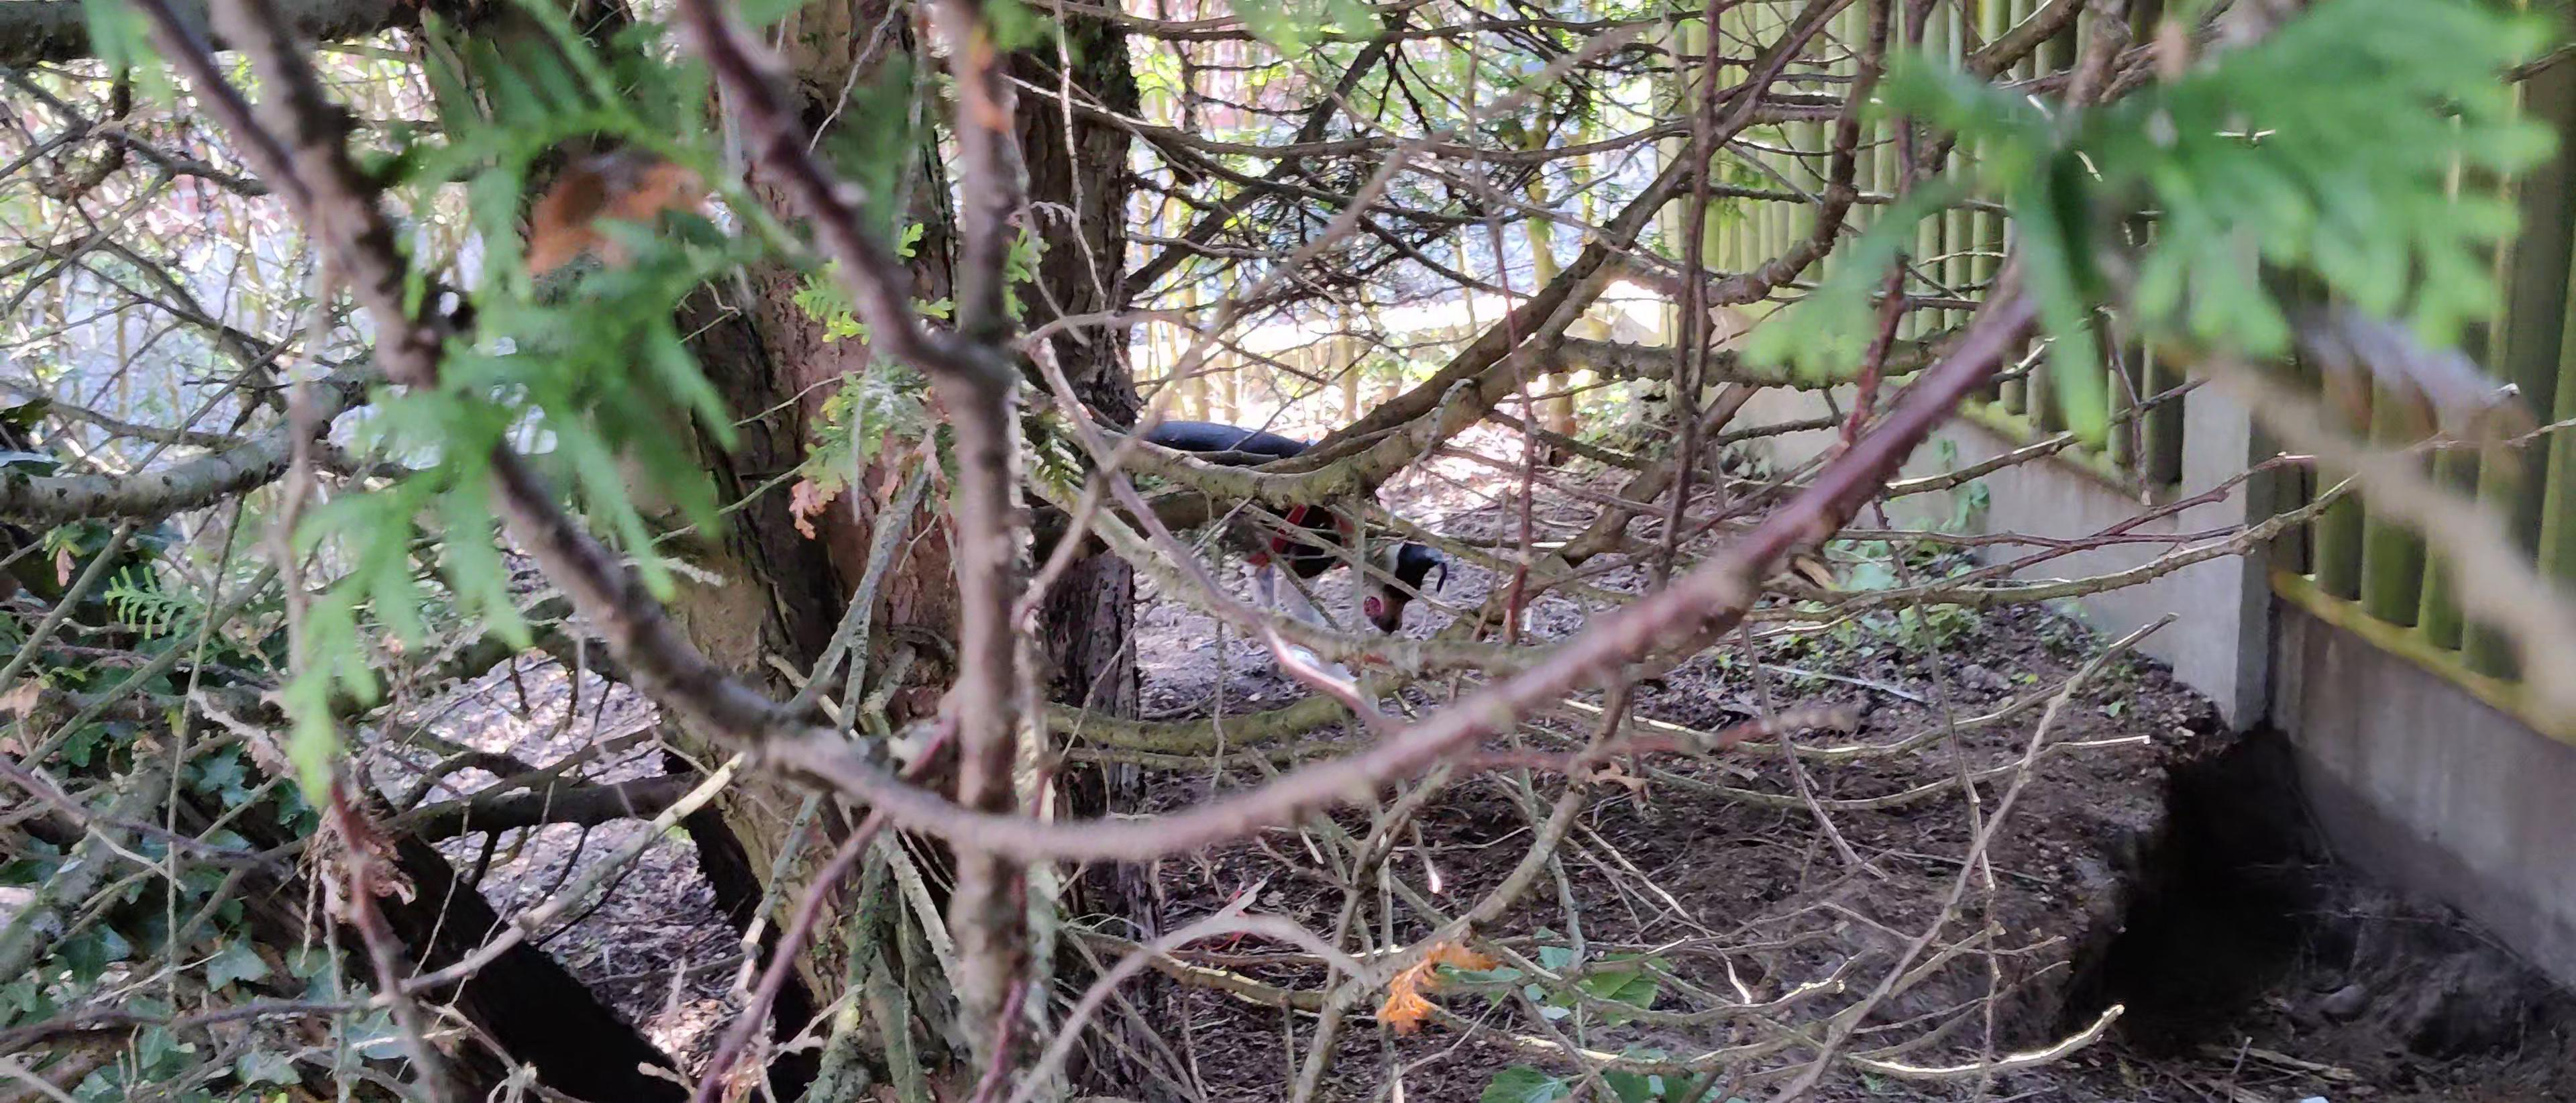Dog: (1120, 399, 1454, 674)
